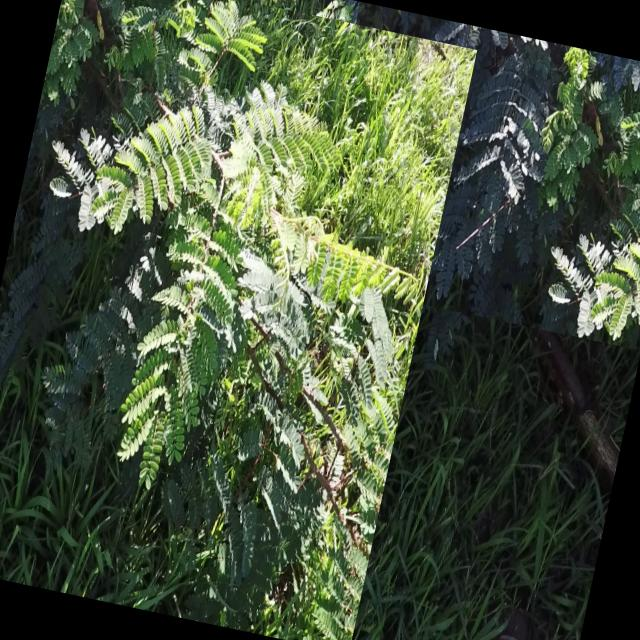Mysore-Thorn-Weed: (0, 0, 476, 640), (301, 1, 640, 349)
